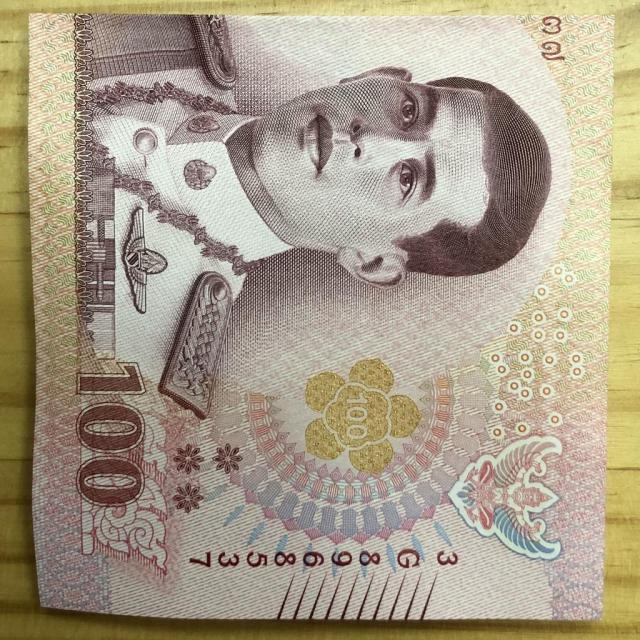THAI100: (26, 12, 618, 628)
